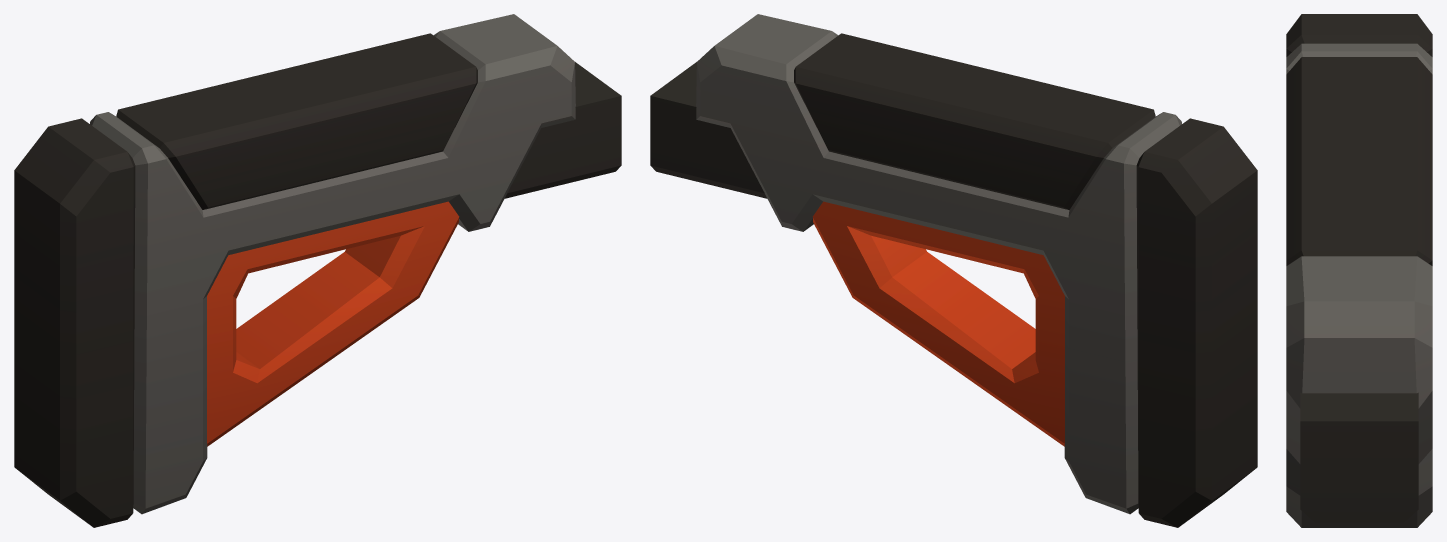
File: Shotgun3_ButtstockHeavy.fbx
3 views of the same model, side by side, from view 1: azimuth 30°, elevation 25°; view 2: azimuth 150°, elevation 25°; view 3: azimuth 270°, elevation 25° (orthographic). The views are drawn at different scales.
Visible parts, largest first — view 1: Shotgun3_ButtstockHeavy; view 2: Shotgun3_ButtstockHeavy; view 3: Shotgun3_ButtstockHeavy.
Boxes of the visible parts, left/top/right/bottom form: Shotgun3_ButtstockHeavy: left=14, top=14, right=621, bottom=527; Shotgun3_ButtstockHeavy: left=650, top=14, right=1257, bottom=527; Shotgun3_ButtstockHeavy: left=1286, top=14, right=1432, bottom=527.
Bounding box in the file's own units: 23.91 × 14.98 × 4.26.
